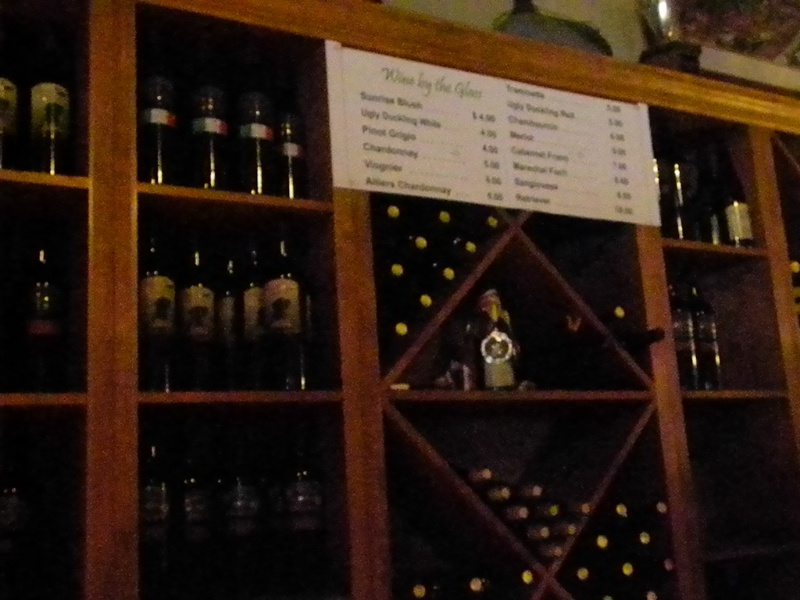wine: (370, 184, 688, 600), (136, 5, 354, 600), (1, 1, 96, 600), (643, 95, 800, 402)
